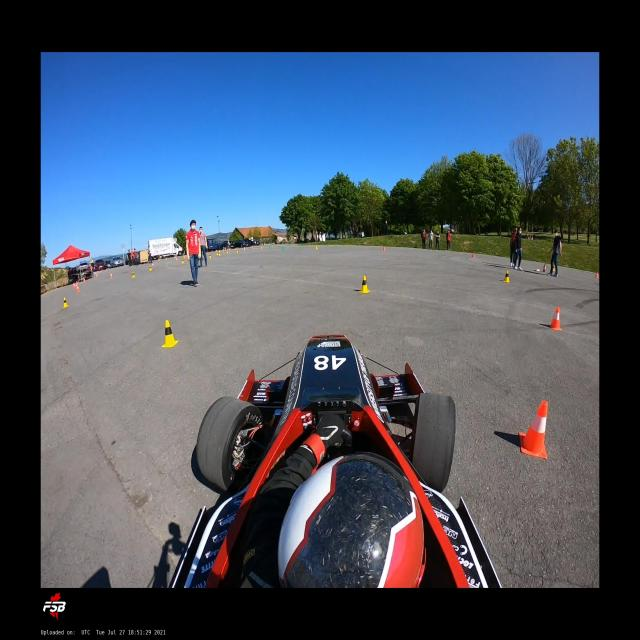orange_cone: (519, 398, 547, 458), (550, 307, 562, 330), (77, 286, 80, 292), (472, 253, 475, 258), (75, 284, 77, 289), (73, 283, 75, 288), (176, 257, 178, 262), (96, 275, 98, 279), (152, 264, 154, 267), (84, 278, 85, 283), (111, 273, 112, 278), (384, 246, 385, 251), (596, 273, 597, 278), (244, 248, 245, 252), (252, 246, 253, 249), (262, 247, 262, 250)
unknown_cone: (299, 243, 301, 246), (269, 246, 271, 249), (283, 247, 285, 249)
yellow_cone: (162, 319, 178, 347), (360, 275, 370, 293), (504, 270, 509, 282), (63, 297, 68, 308), (132, 272, 135, 278), (181, 258, 184, 264), (149, 266, 152, 270), (315, 246, 318, 250), (553, 264, 555, 270), (216, 252, 218, 255), (158, 258, 160, 261), (237, 250, 238, 253), (219, 253, 220, 256), (210, 255, 211, 258), (227, 251, 228, 253), (166, 258, 167, 260)
